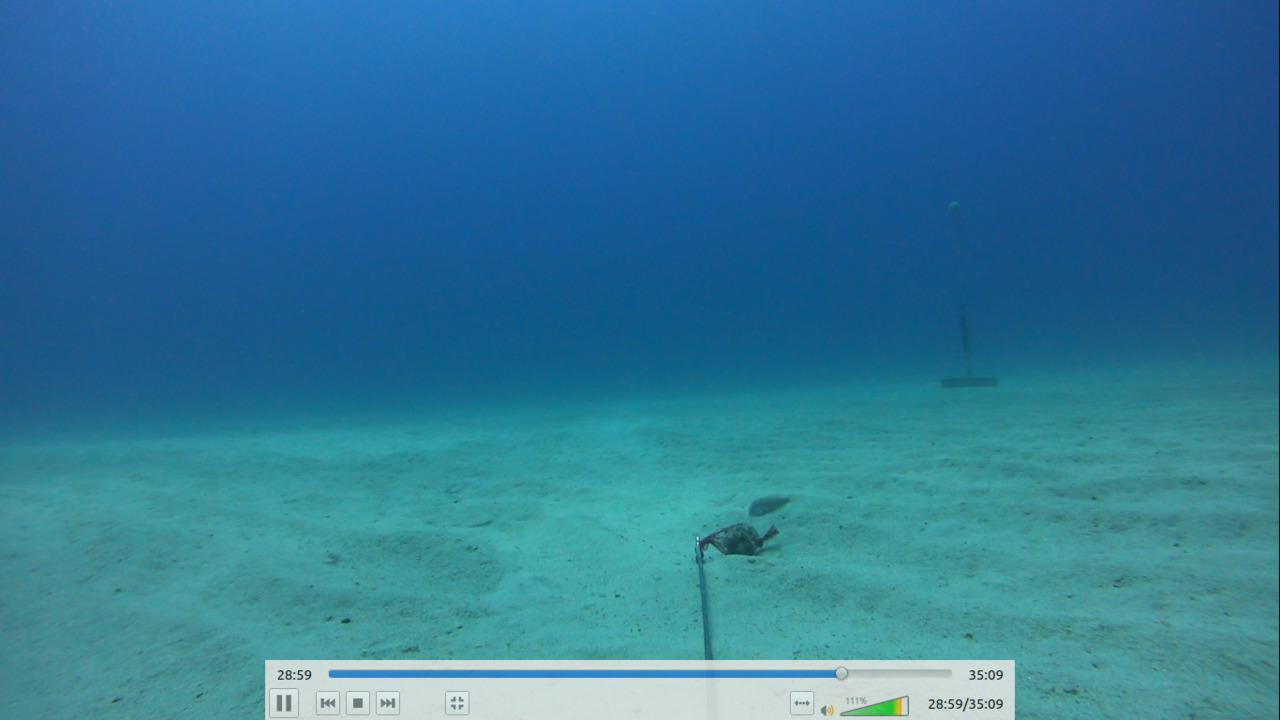raor: (734, 486, 806, 523)
